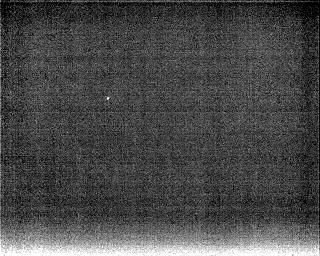BIRD: (104, 94, 112, 104)
